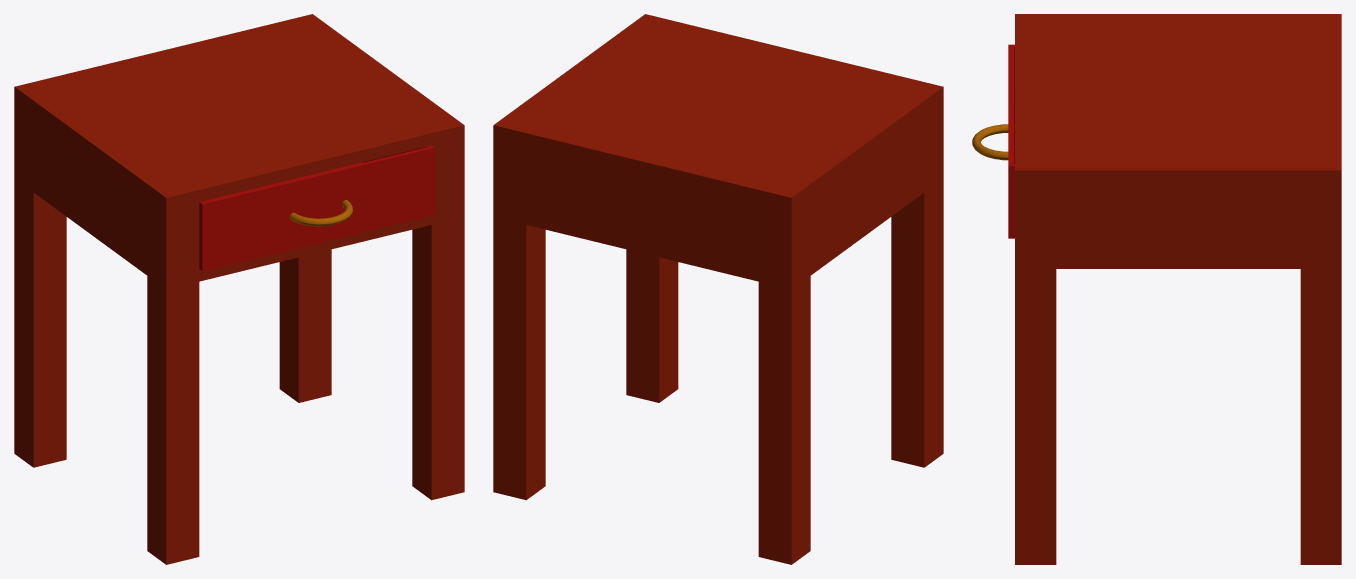
Rendered from BedsideTable.FBX.
3 views of the same model, side by side, from view 1: azimuth 30°, elevation 25°; view 2: azimuth 150°, elevation 25°; view 3: azimuth 270°, elevation 25° (orthographic). The views are drawn at different scales.
Parts seen in each view (by area): view 1: Table, Drawer; view 2: Table; view 3: Table, Drawer.
Part boxes in pixels (x1=…): Table: x1=14, y1=14, x2=464, y2=564; Drawer: x1=199, y1=145, x2=434, y2=271; Table: x1=493, y1=14, x2=943, y2=564; Table: x1=1015, y1=14, x2=1341, y2=564; Drawer: x1=972, y1=44, x2=1014, y2=238.
Size of the model in its own units: 33.46 by 39.37 by 33.39.
